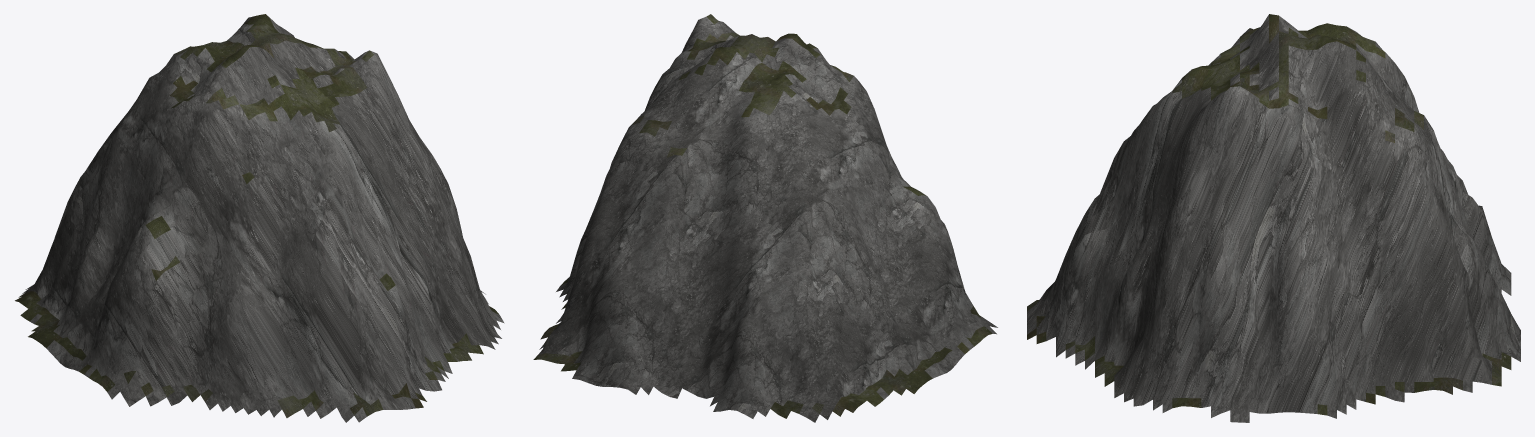
File: border_shelf_b_v5_summer.glb
3 views of the same model, side by side, from view 1: azimuth 30°, elevation 25°; view 2: azimuth 150°, elevation 25°; view 3: azimuth 270°, elevation 25° (orthographic). The views are drawn at different scales.
Parts seen in each view (by area): view 1: border_shelf_b; view 2: border_shelf_b; view 3: border_shelf_b.
Part boxes in pixels (x1,y1,x2,y2): border_shelf_b: (15, 14, 504, 422); border_shelf_b: (533, 14, 997, 422); border_shelf_b: (1027, 14, 1520, 422).
Bounding box in the file's own units: 0.9796 × 0.694 × 1.04.
Materials: 2 (2 with a texture image).
